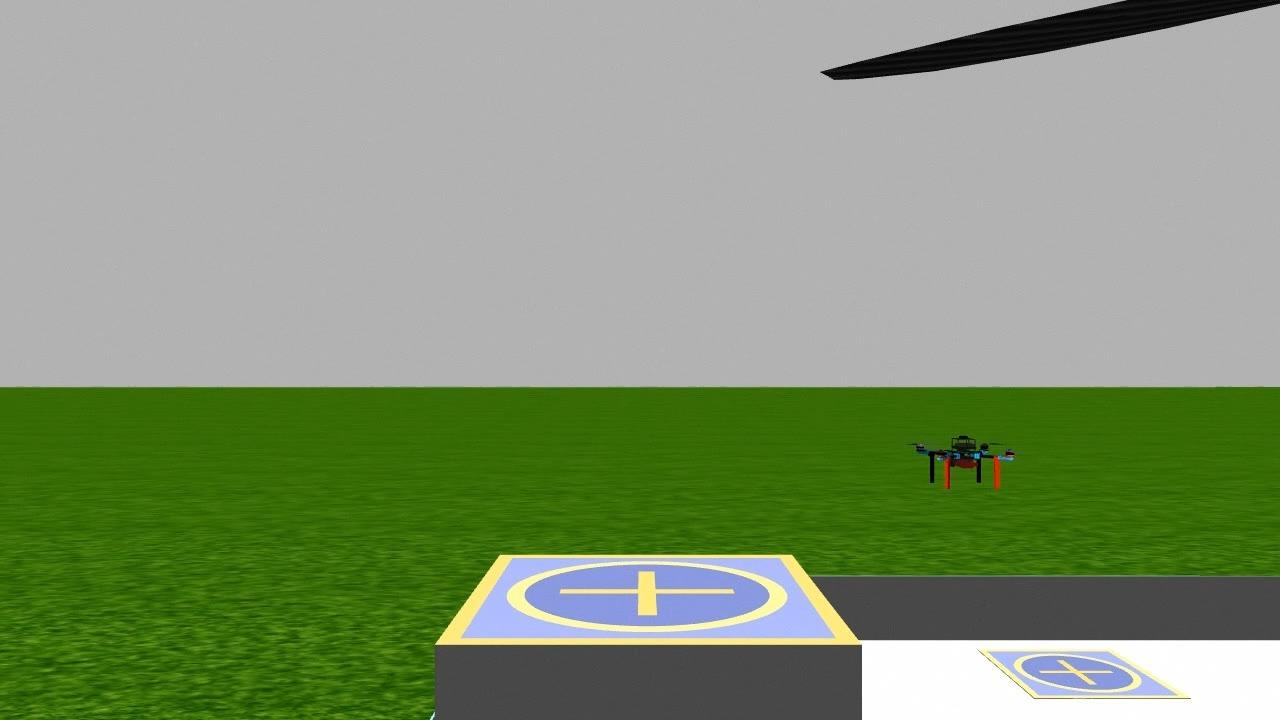UAV: (884, 421, 1052, 497)
